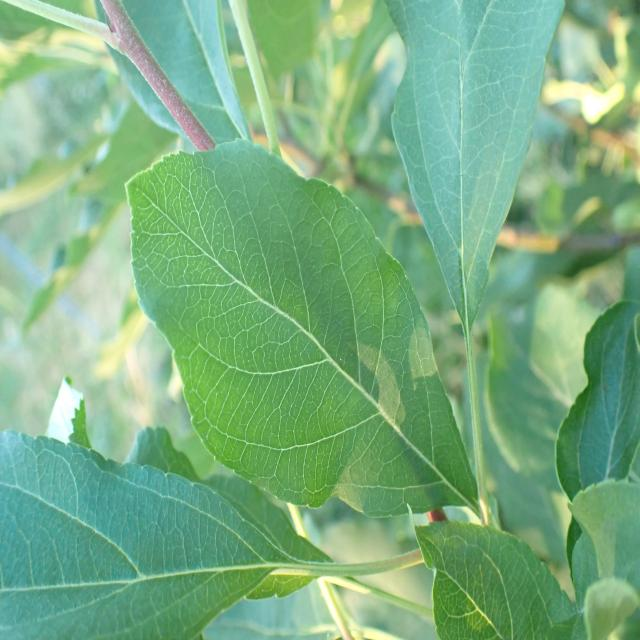healthy: (124, 138, 479, 520), (1, 376, 333, 640), (385, 0, 564, 335), (555, 298, 640, 586), (95, 0, 251, 150), (414, 519, 584, 640)
